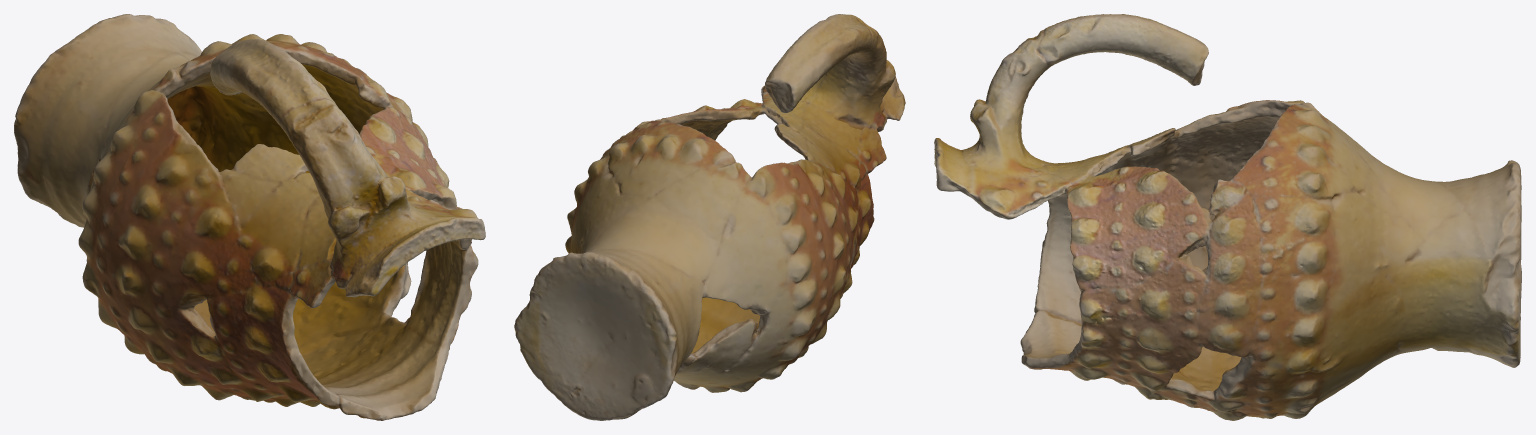
Rendered from pot_cassé.glb.
3 views of the same model, side by side, from view 1: azimuth 30°, elevation 25°; view 2: azimuth 150°, elevation 25°; view 3: azimuth 270°, elevation 25° (orthographic). The views are drawn at different scales.
Visible parts, largest first — view 1: defaultobject; view 2: defaultobject; view 3: defaultobject.
Part boxes in pixels (x1,y1,x2,y2): defaultobject: (14, 14, 485, 420); defaultobject: (514, 14, 905, 420); defaultobject: (934, 14, 1521, 420).
Bounding box in the file's own units: 7.15 × 8.82 × 12.94.
